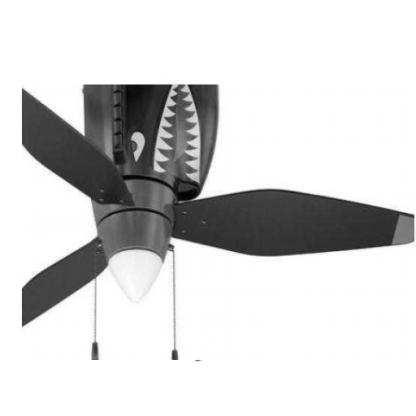ceiling-fan: (22, 85, 415, 361)
